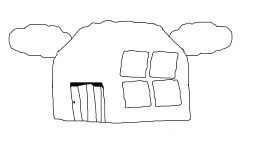clouds: (5, 15, 79, 67), (167, 15, 238, 60)
door: (68, 77, 114, 126)
open_window: (116, 45, 151, 80), (147, 48, 181, 84), (122, 78, 156, 111), (151, 77, 184, 109)
single_line_roof: (53, 16, 186, 48)
wall: (48, 50, 195, 128)
